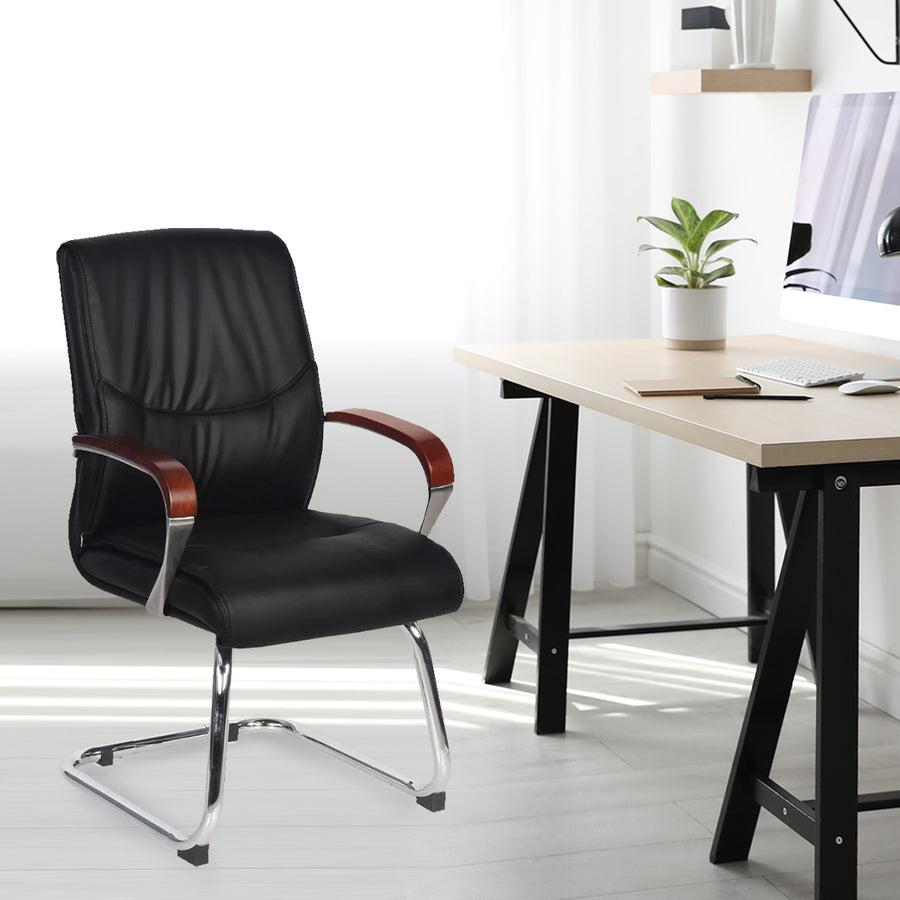chair: (34, 213, 509, 841)
